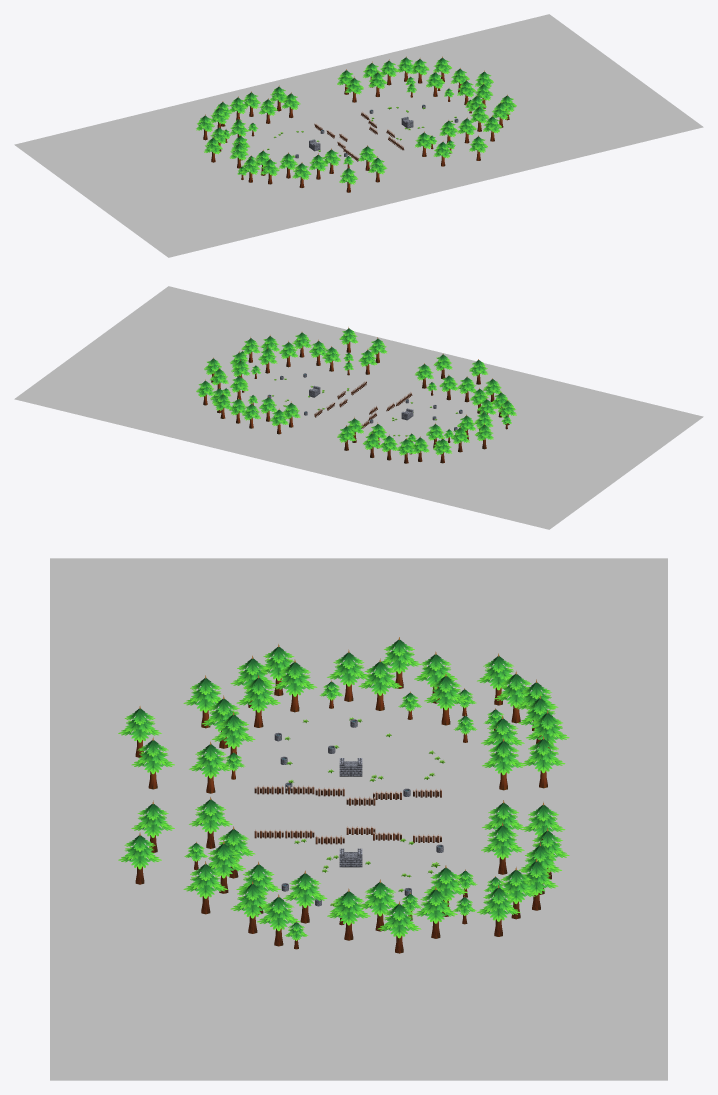
3 renders of one model, top to bottom at view 1: azimuth 30°, elevation 25°; view 2: azimuth 150°, elevation 25°; view 3: azimuth 270°, elevation 25°, orthographic. The views are drawn at different scales.
Parts seen in each view (by area): view 1: pPlane48; view 2: pPlane48; view 3: pPlane48.
Boxes of the visible parts, x1,y1,x2,y2 form: pPlane48: [14, 14, 703, 257]; pPlane48: [14, 286, 703, 529]; pPlane48: [50, 558, 667, 1080].
Size of the model in its own units: 646 by 30.54 by 323.
